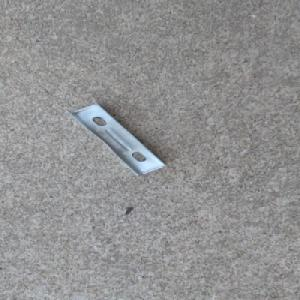ClampPart: (65, 100, 166, 176)
